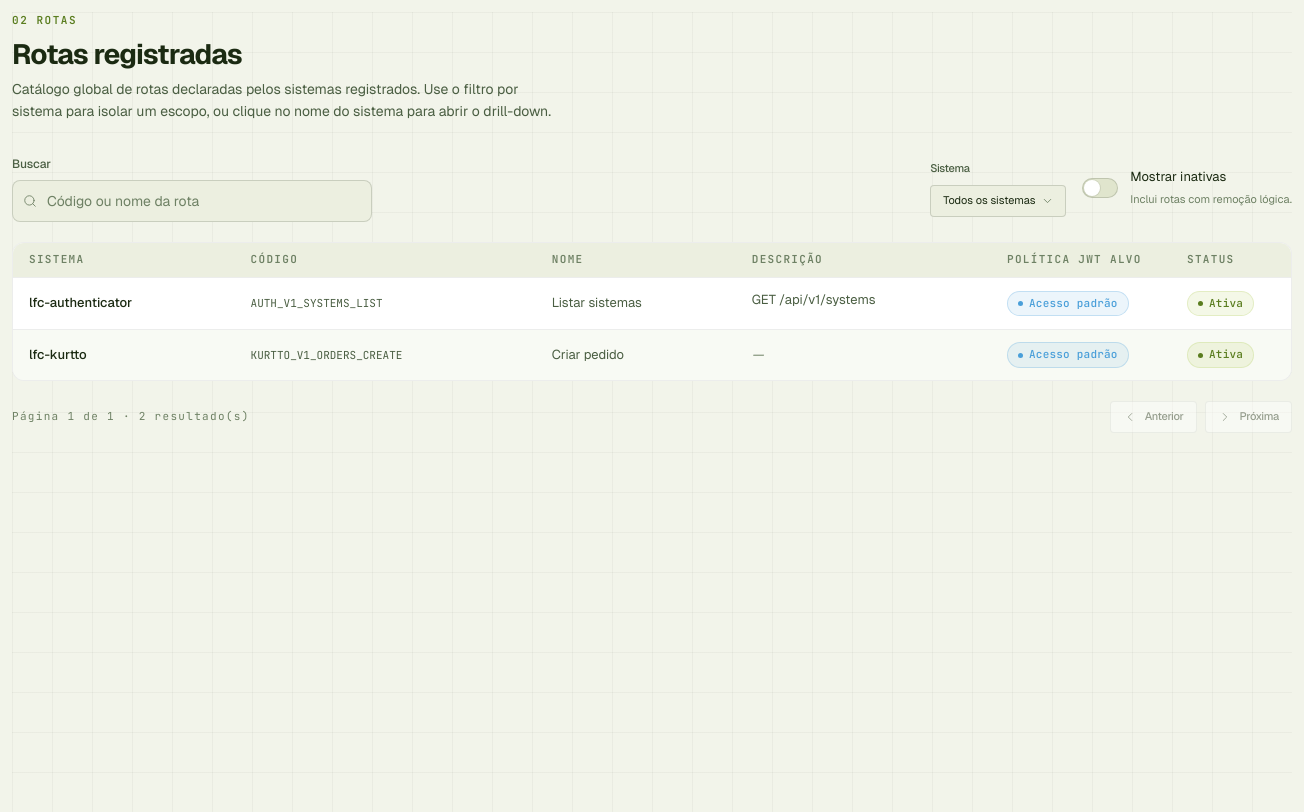
Test: RoutesGlobalListShellPage — estados vazios › vazio com busca: exibe termo + botão limpar
The width and height of the screenshot is (1304, 812).
Type "naoexiste" into the search field with test id "routes-global-search" at (192, 201), box [12,180,372,222]
Wait 300 ms
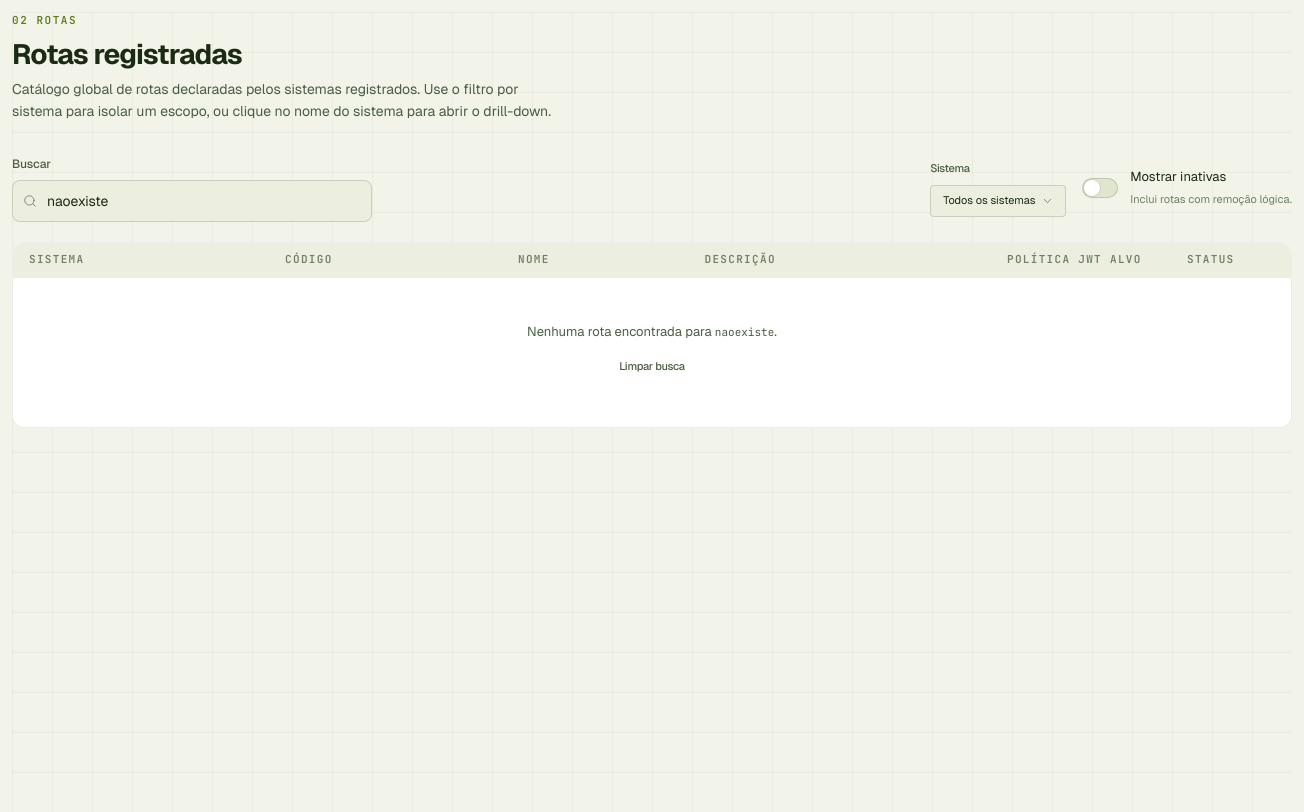
Check: the button with test id "routes-global-empty-clear" is shown, box [606,350,698,382]
